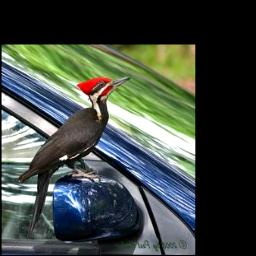Woodpecker: (16, 75, 133, 239)
